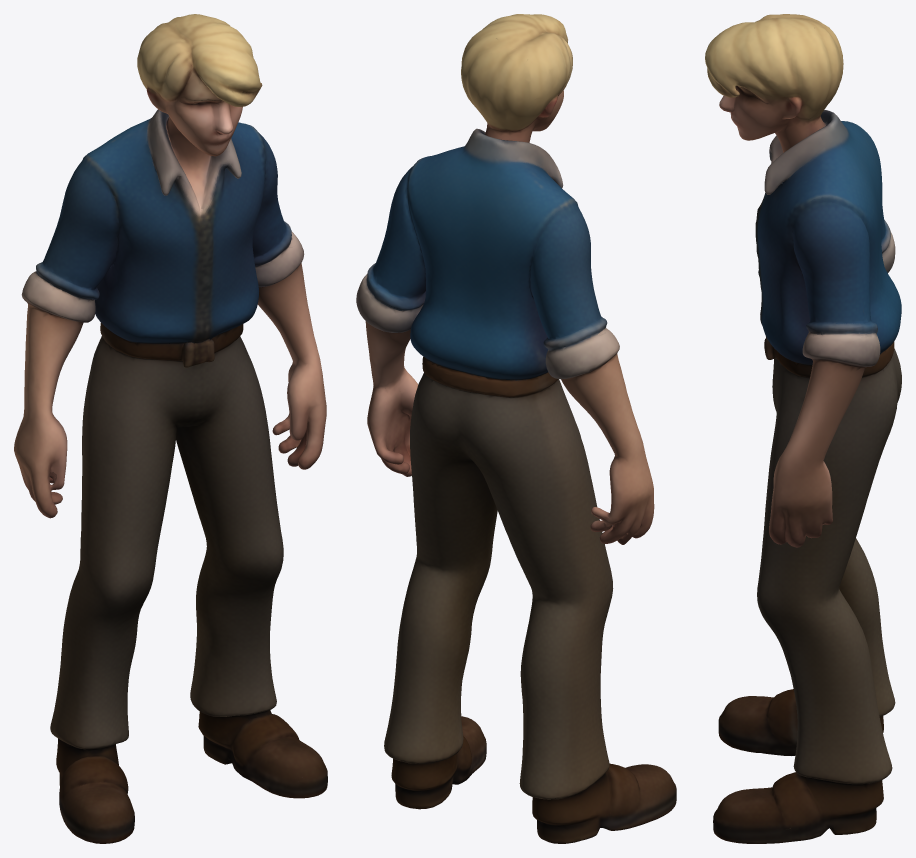
Rendered from villager2.glb.
The picture shows the model from 3 angles, left to right: view 1: azimuth 30°, elevation 25°; view 2: azimuth 150°, elevation 25°; view 3: azimuth 270°, elevation 25°; orthographic projection.
Visible parts, largest first — view 1: geometry_0; view 2: geometry_0; view 3: geometry_0.
Part boxes in pixels (x1,y1,x2,y2): geometry_0: (14, 14, 327, 843); geometry_0: (356, 14, 676, 843); geometry_0: (705, 14, 901, 843).
Bounding box in the file's own units: 0.3907 × 1 × 0.2319.
1 material, 1 textured.
